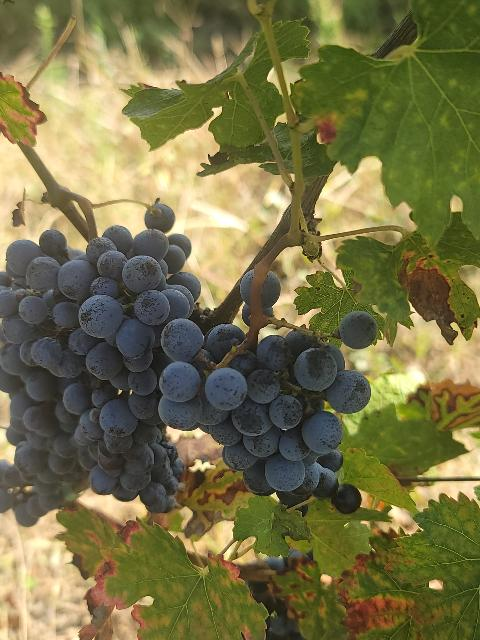grapes: (39, 219, 200, 511), (159, 319, 371, 514), (0, 231, 86, 526), (260, 272, 280, 320)
